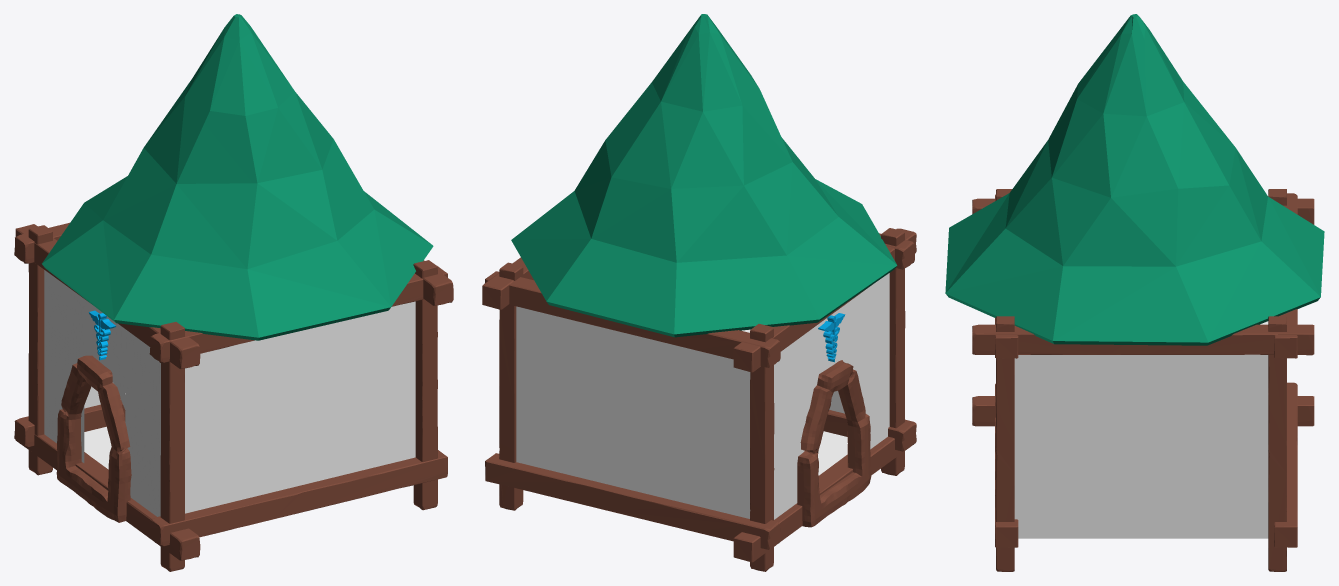
File: MaisonMedecin.fbx
3 renders of one model, left to right at view 1: azimuth 30°, elevation 25°; view 2: azimuth 150°, elevation 25°; view 3: azimuth 270°, elevation 25°, orthographic. The views are drawn at different scales.
Visible parts, largest first — view 1: WoodRingHigh.002; view 2: WoodRingHigh.002; view 3: WoodRingHigh.002.
Boxes of the visible parts, <box> form: WoodRingHigh.002: <box>14,14,453,571</box>; WoodRingHigh.002: <box>482,14,916,571</box>; WoodRingHigh.002: <box>945,14,1324,571</box>.
Bounding box in the file's own units: 1136 × 1618 × 1136.
